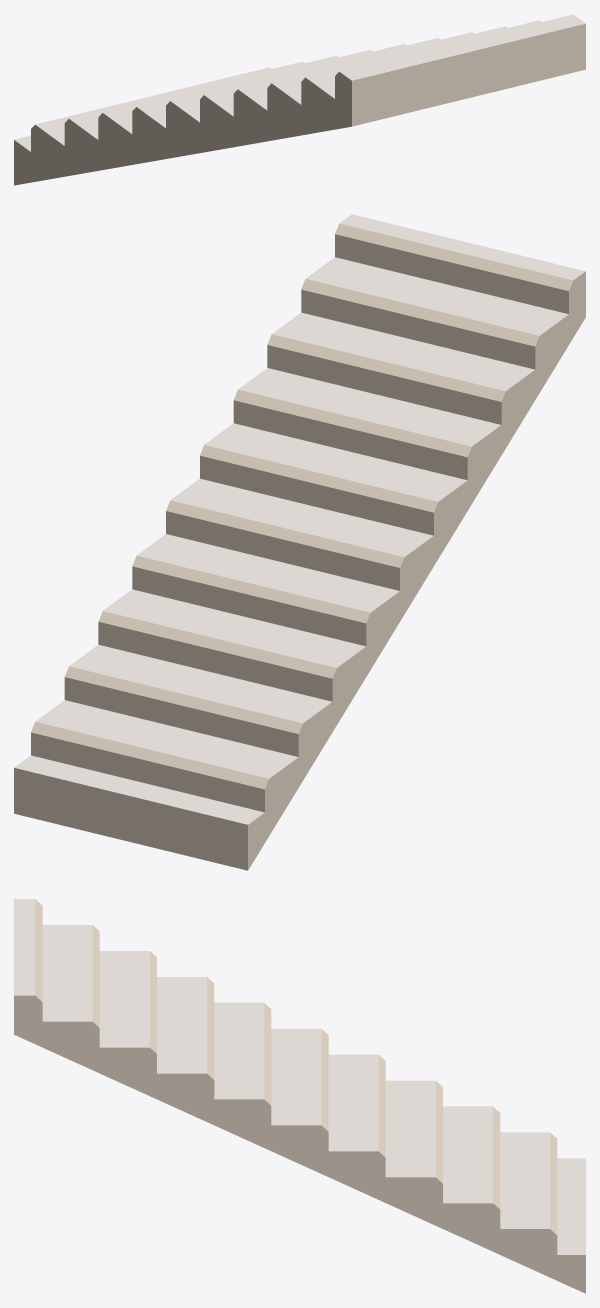
File: temple_Stairs_Steps_Straight.glb
The picture shows the model from 3 angles, top to bottom: view 1: azimuth 30°, elevation 25°; view 2: azimuth 150°, elevation 25°; view 3: azimuth 270°, elevation 25°; orthographic projection. The views are drawn at different scales.
Parts seen in each view (by area): view 1: object1; view 2: object1; view 3: object1.
Boxes of the visible parts, x1,y1,x2,y2 form: object1: [14, 14, 585, 185]; object1: [14, 214, 585, 870]; object1: [14, 899, 585, 1293].
Bounding box in the file's own units: 0.8 × 1.15 × 2.
